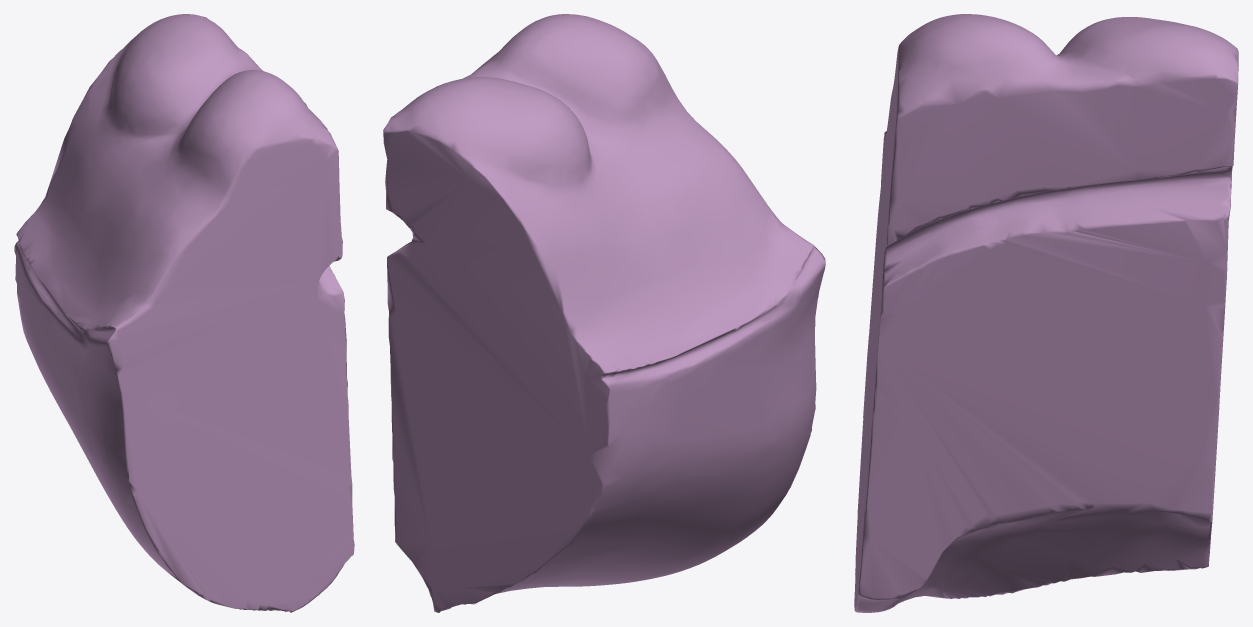
3 renders of one model, left to right at view 1: azimuth 30°, elevation 25°; view 2: azimuth 150°, elevation 25°; view 3: azimuth 270°, elevation 25°, orthographic. The views are drawn at different scales.
Visible parts, largest first — view 1: 右侧中脑; view 2: 右侧中脑; view 3: 右侧中脑.
Part boxes in pixels (x1,y1,x2,y2): 右侧中脑: (14, 14, 354, 612); 右侧中脑: (383, 14, 825, 612); 右侧中脑: (854, 14, 1238, 612).
Bounding box in the file's own units: 0.021 × 0.042 × 0.0244.
